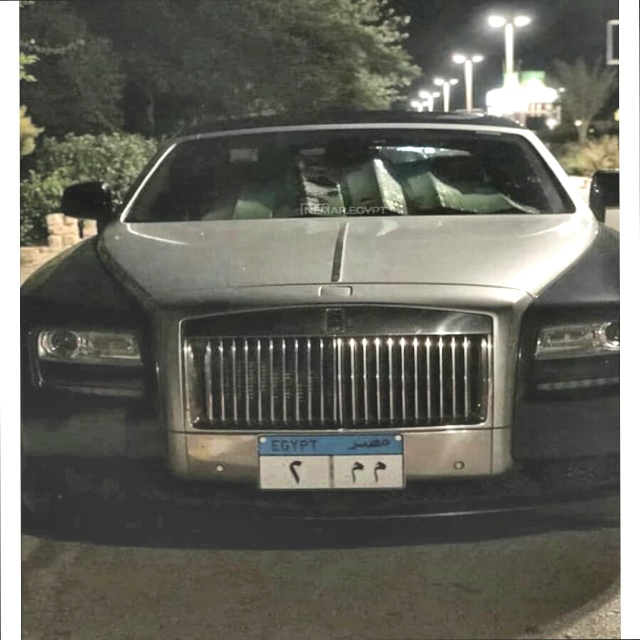License Plate: (254, 431, 408, 493)
